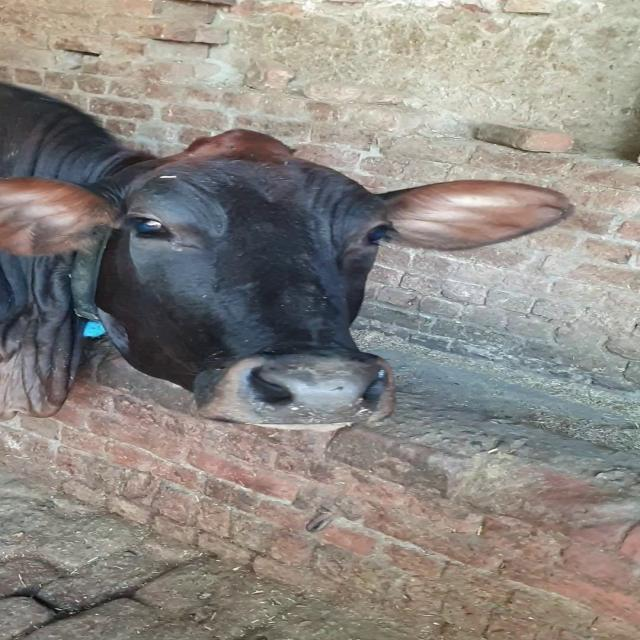cowFace: (114, 146, 430, 423)
